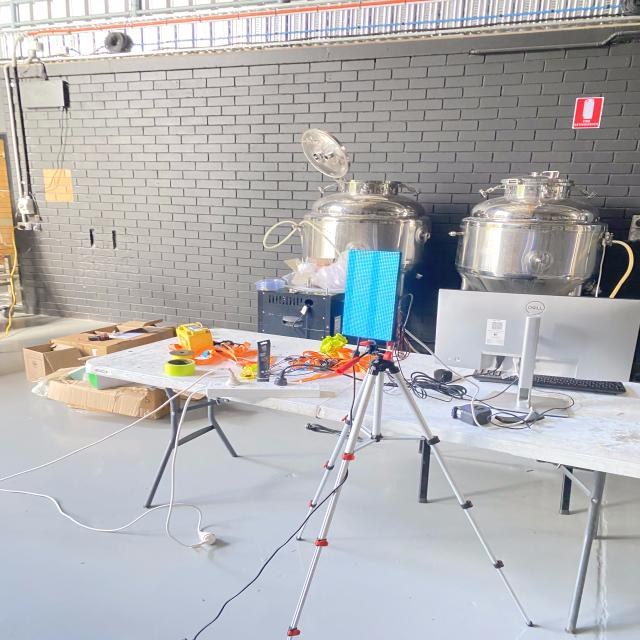matrix: (337, 245, 412, 352)
